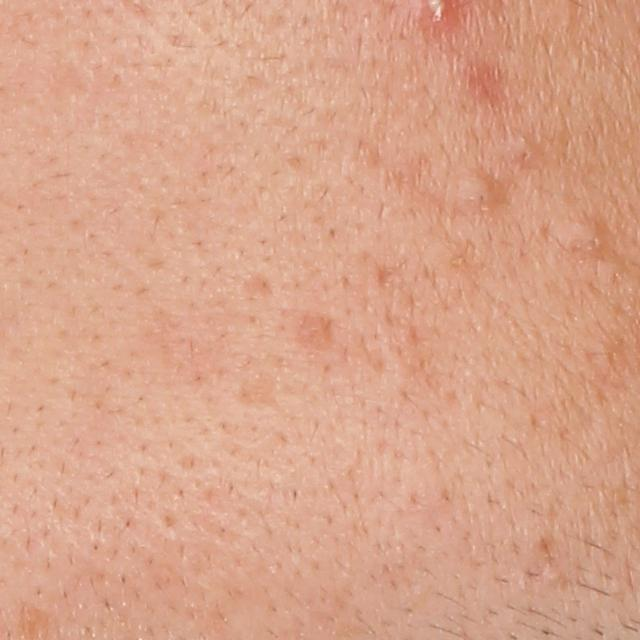atrophic_scar: (231, 372, 284, 414), (241, 271, 275, 302)
comedo: (456, 173, 505, 216), (566, 218, 605, 261), (504, 134, 538, 171)
